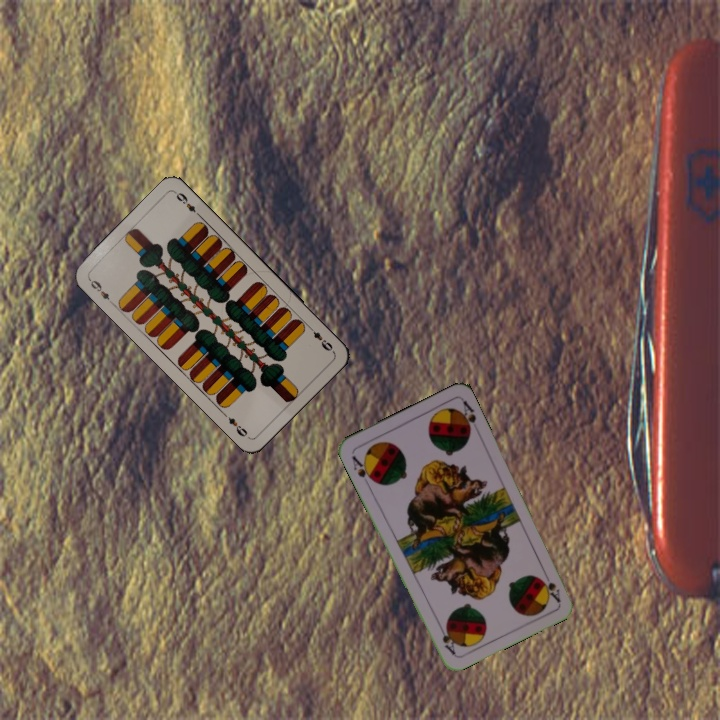E9: (85, 275, 117, 307), (304, 322, 335, 354)
SA: (348, 452, 377, 485), (537, 574, 563, 605)
